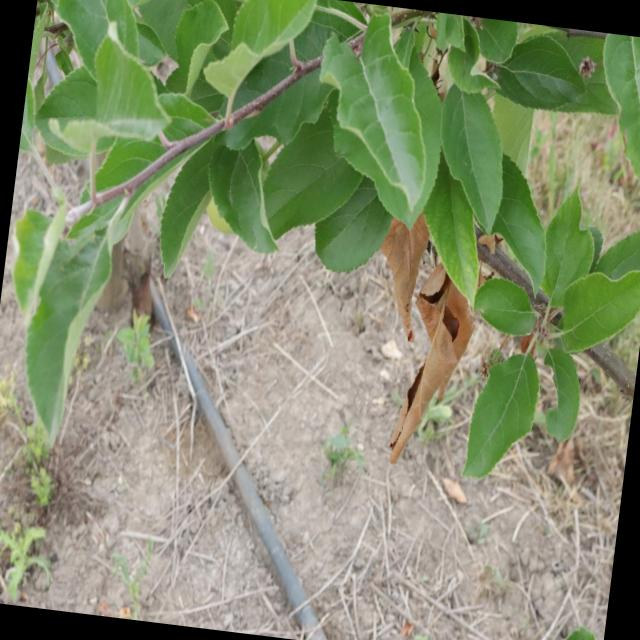-FireBlight-: (357, 207, 481, 463)
